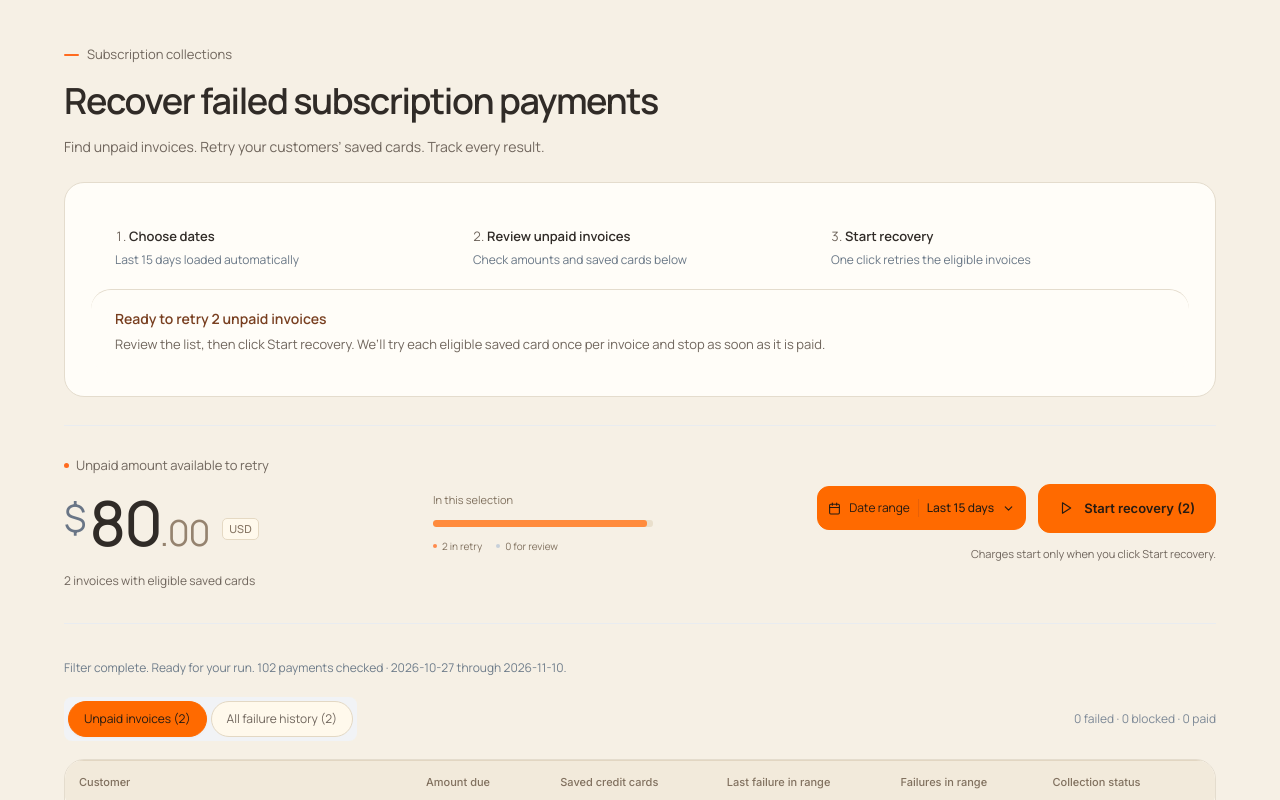
Test: one top button submits exactly the displayed, deduplicated snapshot
The image size is (1280, 800).
Click the button with class "desk-run-button".
click(1127, 508)  # box [1038,484,1216,533]
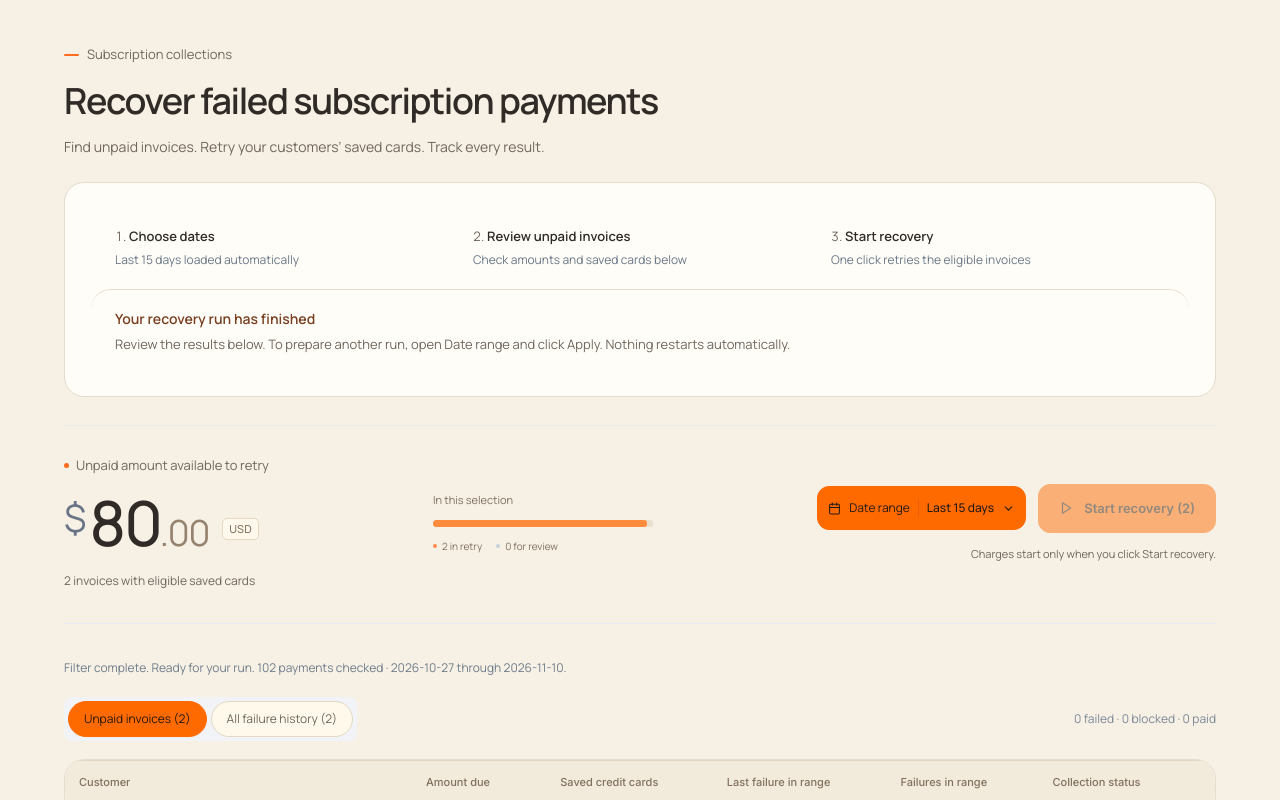
Result: the button with class "desk-run-button" is disabled at [1038,484,1216,533]
